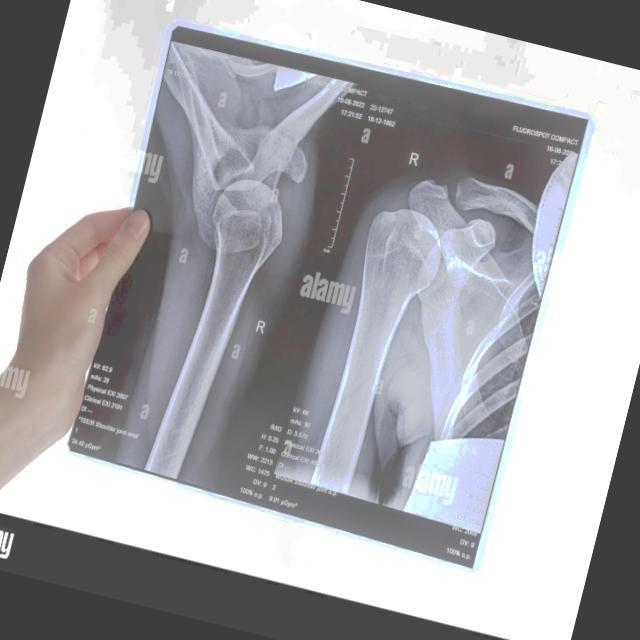Impact Fracture: (428, 180, 481, 255)
